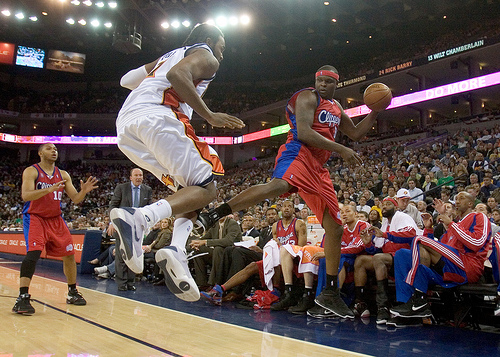basketball: (362, 81, 392, 112)
